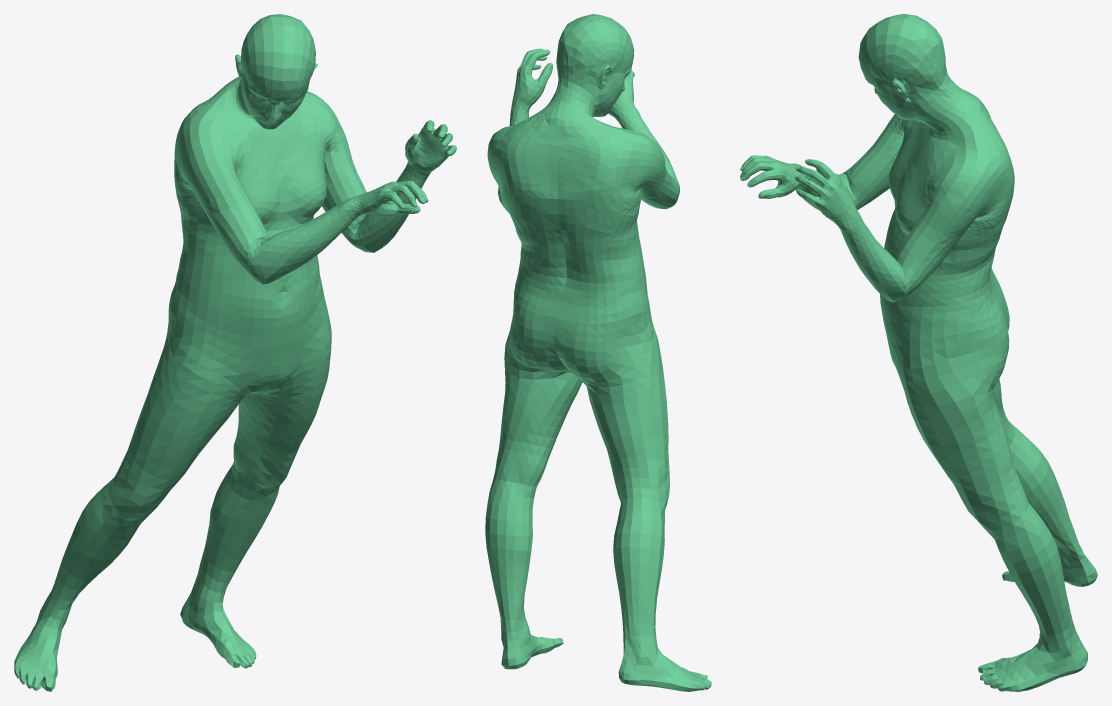
The model's file is hwc_free_09.glb.
3 views of the same model, side by side, from view 1: azimuth 30°, elevation 25°; view 2: azimuth 150°, elevation 25°; view 3: azimuth 270°, elevation 25° (orthographic). The views are drawn at different scales.
Parts seen in each view (by area): view 1: hwc_free; view 2: hwc_free; view 3: hwc_free.
Part boxes in pixels (box(x1,y1,x2,y2)): hwc_free: box(14, 14, 456, 691); hwc_free: box(485, 14, 711, 691); hwc_free: box(740, 14, 1097, 691).
Size of the model in its own units: 0.8044 by 1.63 by 0.7978.
